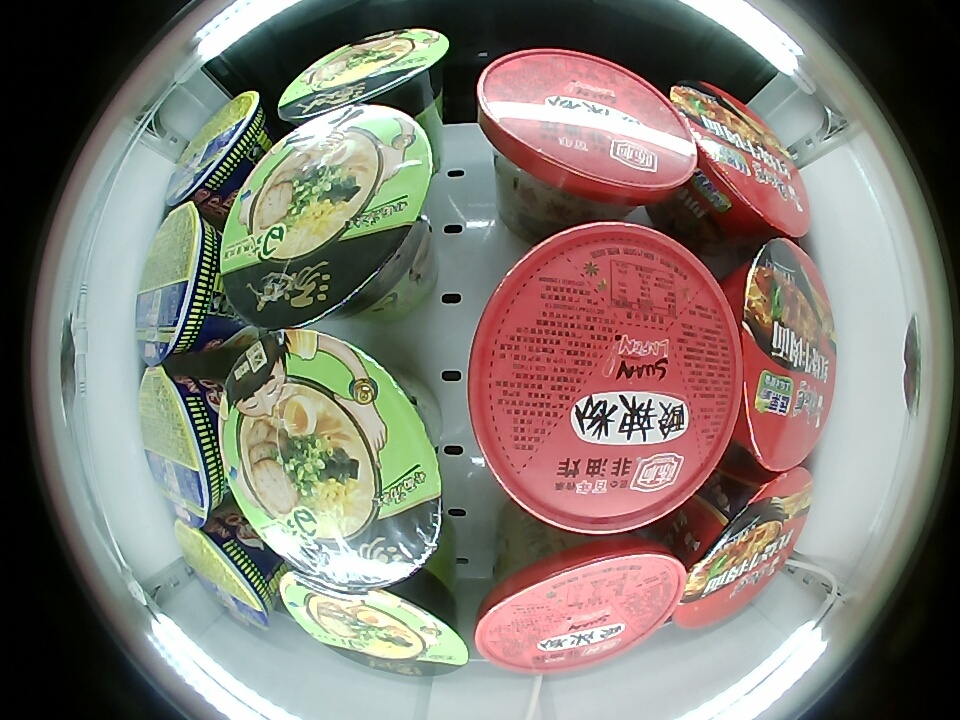heweidao: (136, 201, 225, 367), (138, 366, 223, 528), (167, 90, 271, 212), (175, 516, 277, 640)
hongshaoniurou: (671, 467, 815, 630), (670, 79, 809, 242), (742, 239, 837, 474)
suanlafen: (466, 221, 744, 537), (476, 49, 697, 211), (475, 523, 685, 674)
tangdaren: (218, 327, 443, 592), (220, 105, 435, 329), (280, 567, 472, 678), (278, 28, 450, 133)
